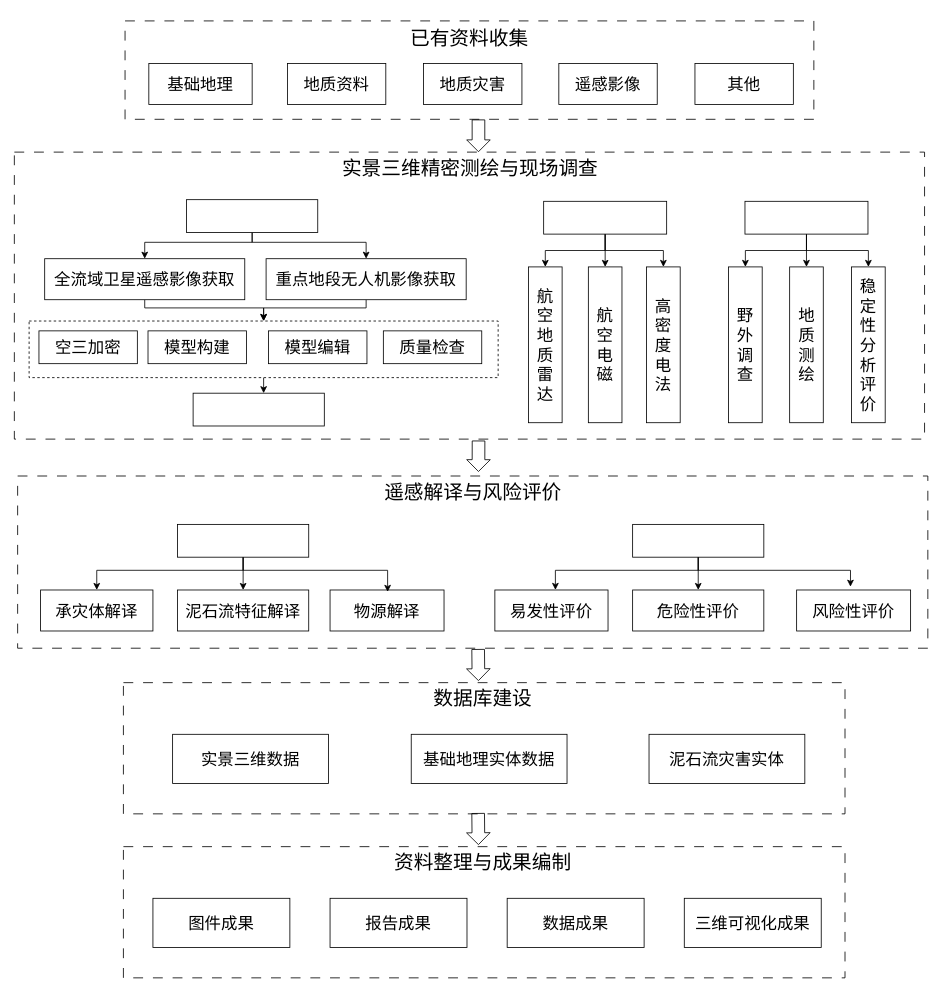
This 942x992 diagram has some shape labels left out. Here are the shapes that lost their labels. From the top down, the centre of each, then its label:
At pixel 252 215: "实景三维构建".
At pixel 605 217: "物探调查".
At pixel 806 217: "现场调查".
At pixel 258 409: "实景三维模型".
At pixel 243 540: "遥感解译".
At pixel 698 540: "风险评价".
